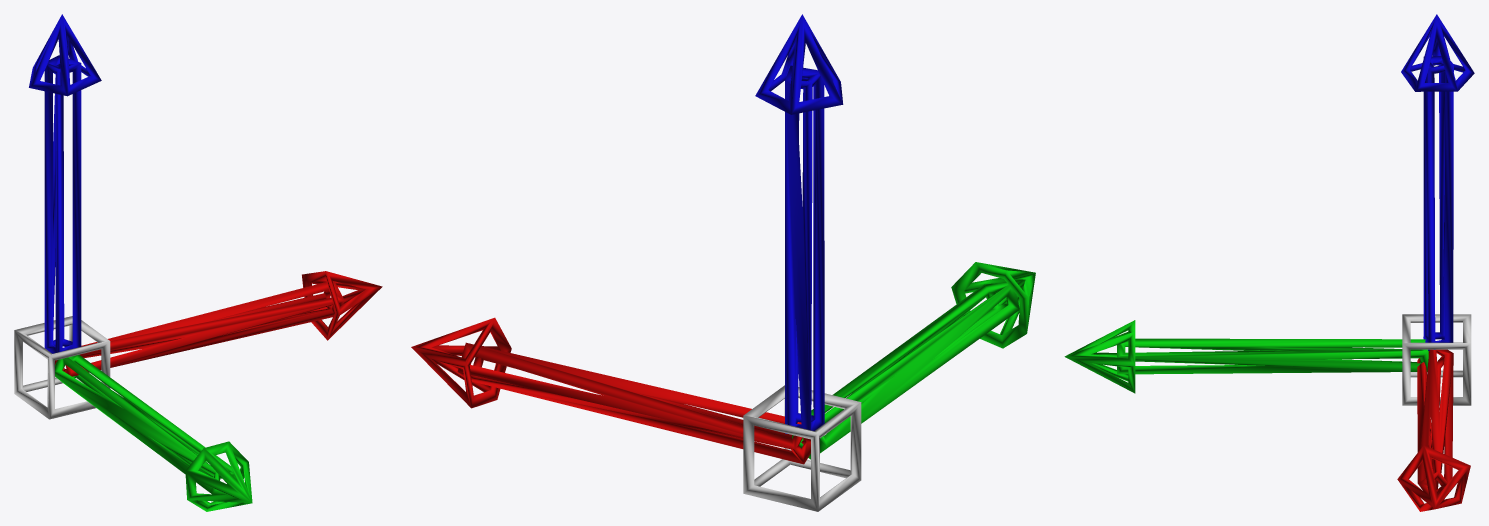
The model's file is transform.obj.
The picture shows the model from 3 angles, left to right: view 1: azimuth 30°, elevation 25°; view 2: azimuth 150°, elevation 25°; view 3: azimuth 270°, elevation 25°; orthographic projection. The views are drawn at different scales.
Parts seen in each view (by area): view 1: z.002_円柱.002; view 2: z.002_円柱.002; view 3: z.002_円柱.002.
Boxes of the visible parts, <box> form: z.002_円柱.002: <box>14,14,382,511</box>; z.002_円柱.002: <box>411,14,1035,511</box>; z.002_円柱.002: <box>1064,14,1474,511</box>.
Bounding box in the file's own units: 3.72 × 3.88 × 3.82.
